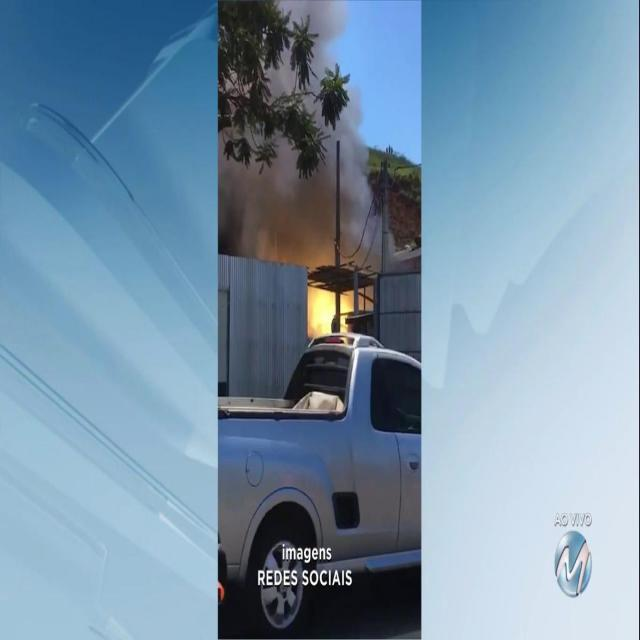Fire: (222, 2, 400, 272), (308, 286, 352, 336)
